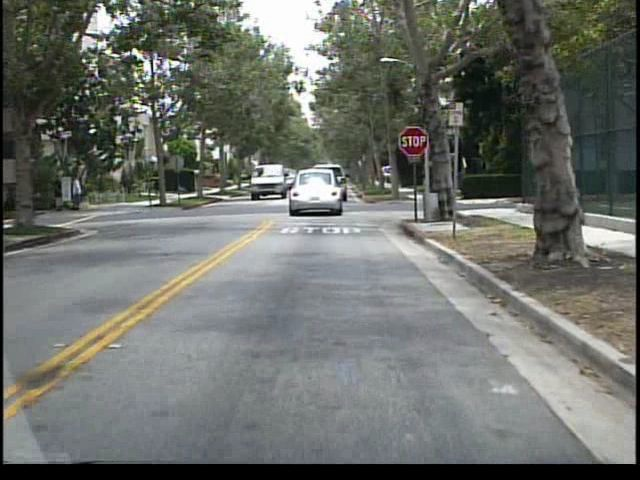person: (72, 167, 87, 213), (57, 169, 64, 214)
